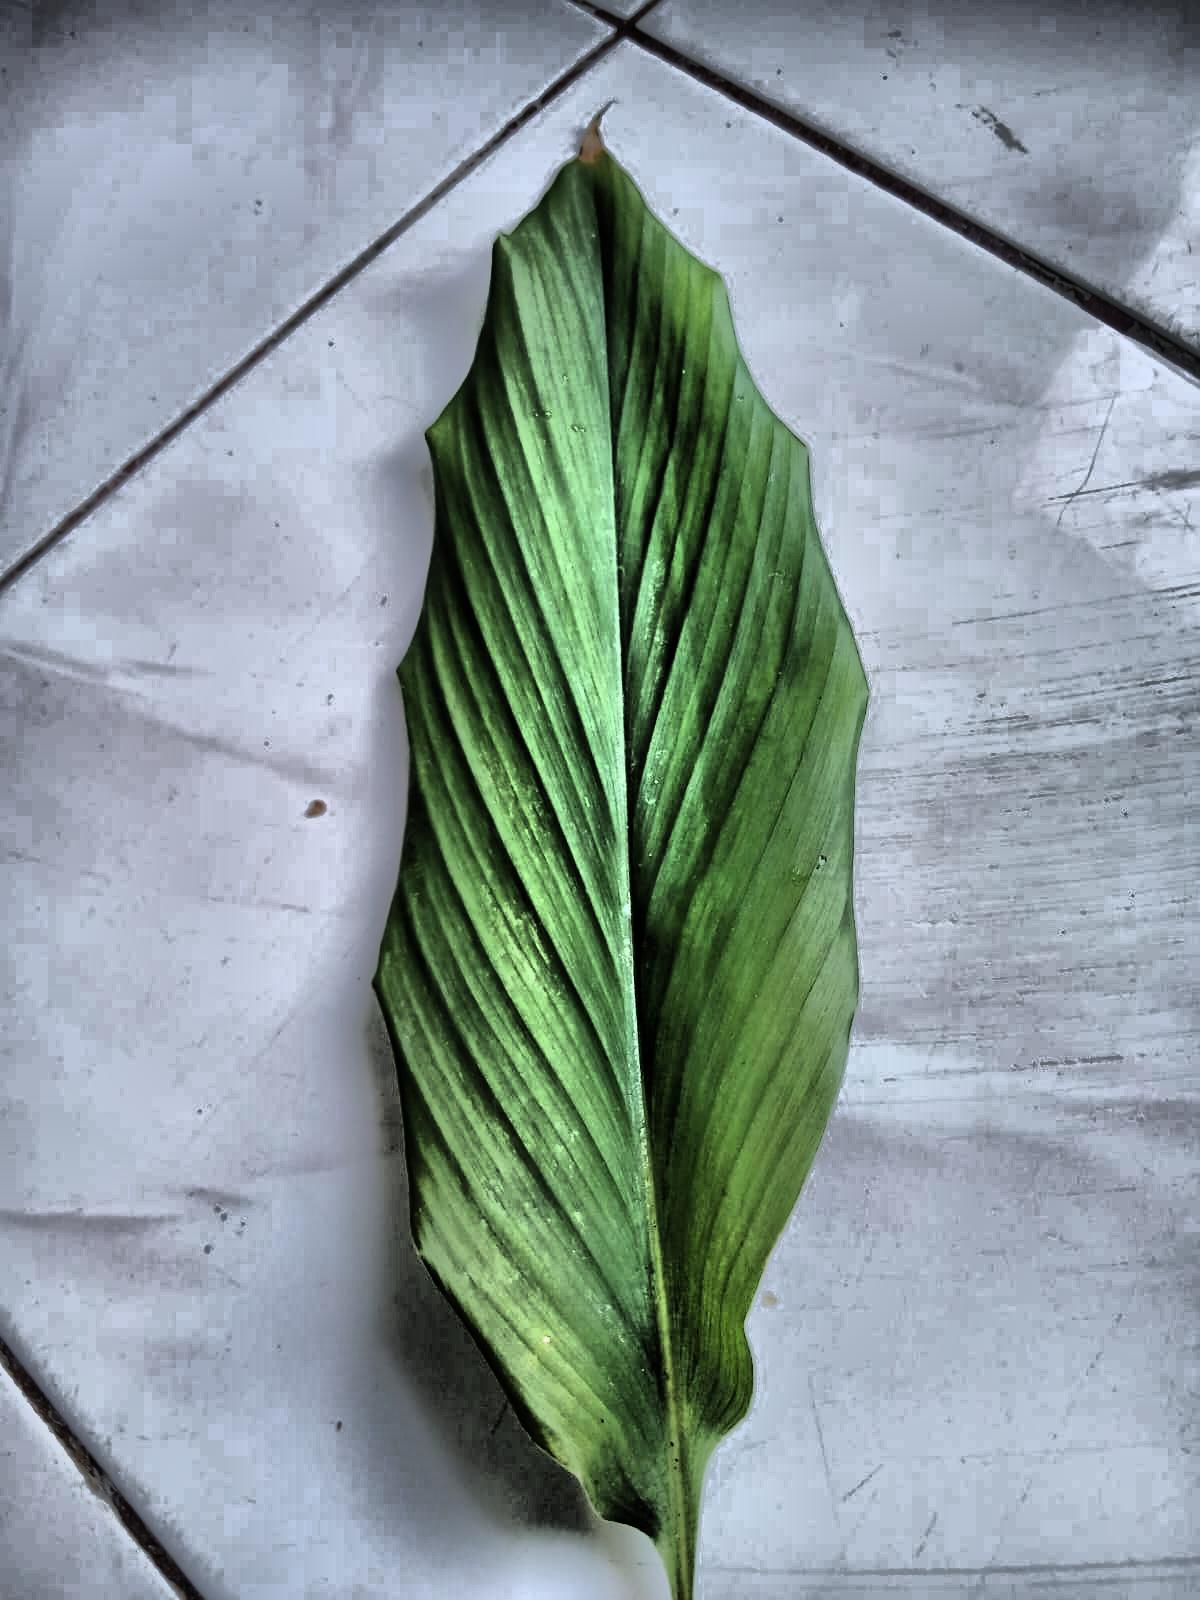daun kunyit: (376, 129, 867, 1599)
